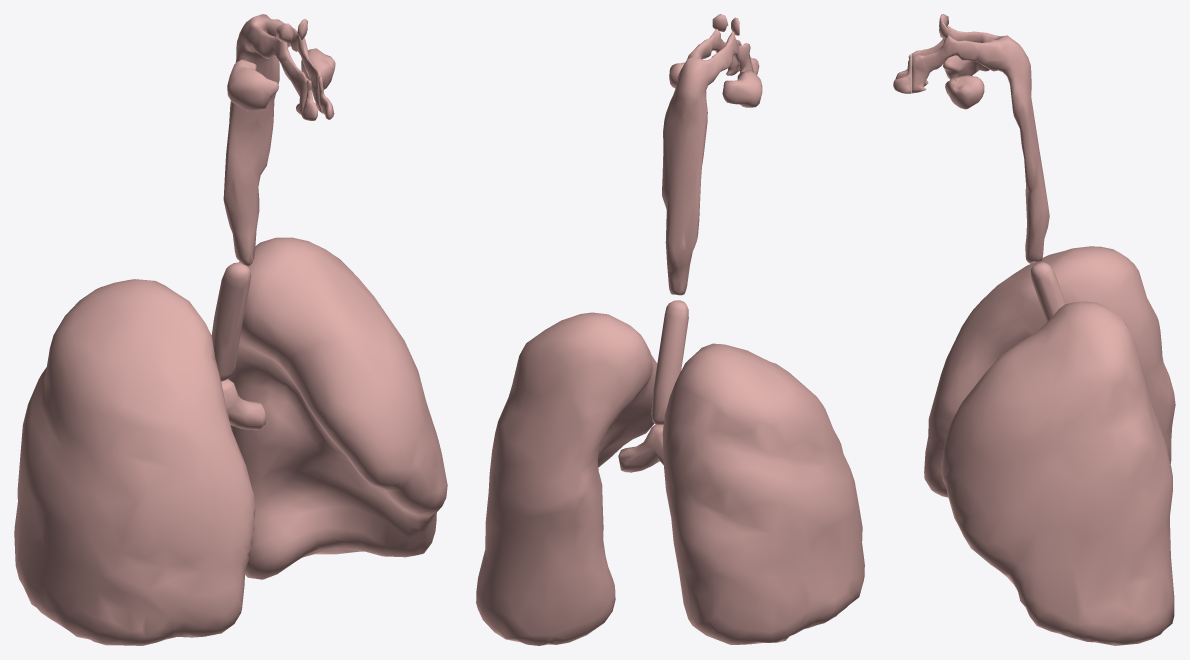
The model's file is pediatric_adolescent_female.respiratory.LOD1.glb.
3 renders of one model, left to right at view 1: azimuth 30°, elevation 25°; view 2: azimuth 150°, elevation 25°; view 3: azimuth 270°, elevation 25°, orthographic. The views are drawn at different scales.
Parts seen in each view (by area): view 1: PEDIATRIC.ADOLESCENT.FEMALE.RESPIRATORY.LUNG.R, PEDIATRIC.ADOLESCENT.FEMALE.RESPIRATORY.LUNG.L, PEDIATRIC.ADOLESCENT.FEMALE.RESPIRATORY.ET2, PEDIATRIC.ADOLESCENT.FEMALE.RESPIRATORY.TRACHEA, PEDIATRIC.ADOLESCENT.FEMALE.RESPIRATORY.BB1, PEDIATRIC.ADOLESCENT.FEMALE.RESPIRATORY.ET1; view 2: PEDIATRIC.ADOLESCENT.FEMALE.RESPIRATORY.LUNG.R, PEDIATRIC.ADOLESCENT.FEMALE.RESPIRATORY.LUNG.L, PEDIATRIC.ADOLESCENT.FEMALE.RESPIRATORY.ET2, PEDIATRIC.ADOLESCENT.FEMALE.RESPIRATORY.TRACHEA, PEDIATRIC.ADOLESCENT.FEMALE.RESPIRATORY.BB1; view 3: PEDIATRIC.ADOLESCENT.FEMALE.RESPIRATORY.LUNG.L, PEDIATRIC.ADOLESCENT.FEMALE.RESPIRATORY.LUNG.R, PEDIATRIC.ADOLESCENT.FEMALE.RESPIRATORY.ET2, PEDIATRIC.ADOLESCENT.FEMALE.RESPIRATORY.TRACHEA, PEDIATRIC.ADOLESCENT.FEMALE.RESPIRATORY.ET1.
Part boxes in pixels (x1=…): PEDIATRIC.ADOLESCENT.FEMALE.RESPIRATORY.LUNG.R: x1=14, y1=279, x2=255, y2=645; PEDIATRIC.ADOLESCENT.FEMALE.RESPIRATORY.LUNG.L: x1=228, y1=237, x2=447, y2=579; PEDIATRIC.ADOLESCENT.FEMALE.RESPIRATORY.ET2: x1=223, y1=14, x2=335, y2=266; PEDIATRIC.ADOLESCENT.FEMALE.RESPIRATORY.TRACHEA: x1=211, y1=262, x2=251, y2=381; PEDIATRIC.ADOLESCENT.FEMALE.RESPIRATORY.BB1: x1=221, y1=379, x2=266, y2=430; PEDIATRIC.ADOLESCENT.FEMALE.RESPIRATORY.ET1: x1=302, y1=75, x2=334, y2=120; PEDIATRIC.ADOLESCENT.FEMALE.RESPIRATORY.LUNG.R: x1=662, y1=343, x2=864, y2=644; PEDIATRIC.ADOLESCENT.FEMALE.RESPIRATORY.LUNG.L: x1=476, y1=312, x2=657, y2=645; PEDIATRIC.ADOLESCENT.FEMALE.RESPIRATORY.ET2: x1=662, y1=14, x2=762, y2=295; PEDIATRIC.ADOLESCENT.FEMALE.RESPIRATORY.TRACHEA: x1=651, y1=300, x2=688, y2=424; PEDIATRIC.ADOLESCENT.FEMALE.RESPIRATORY.BB1: x1=618, y1=424, x2=663, y2=472; PEDIATRIC.ADOLESCENT.FEMALE.RESPIRATORY.LUNG.L: x1=941, y1=301, x2=1174, y2=645; PEDIATRIC.ADOLESCENT.FEMALE.RESPIRATORY.LUNG.R: x1=924, y1=246, x2=1175, y2=497; PEDIATRIC.ADOLESCENT.FEMALE.RESPIRATORY.ET2: x1=911, y1=14, x2=1049, y2=263; PEDIATRIC.ADOLESCENT.FEMALE.RESPIRATORY.TRACHEA: x1=1031, y1=262, x2=1065, y2=322; PEDIATRIC.ADOLESCENT.FEMALE.RESPIRATORY.ET1: x1=893, y1=54, x2=911, y2=93.
Bounding box in the file's own units: 0.2359 × 0.376 × 0.171.
